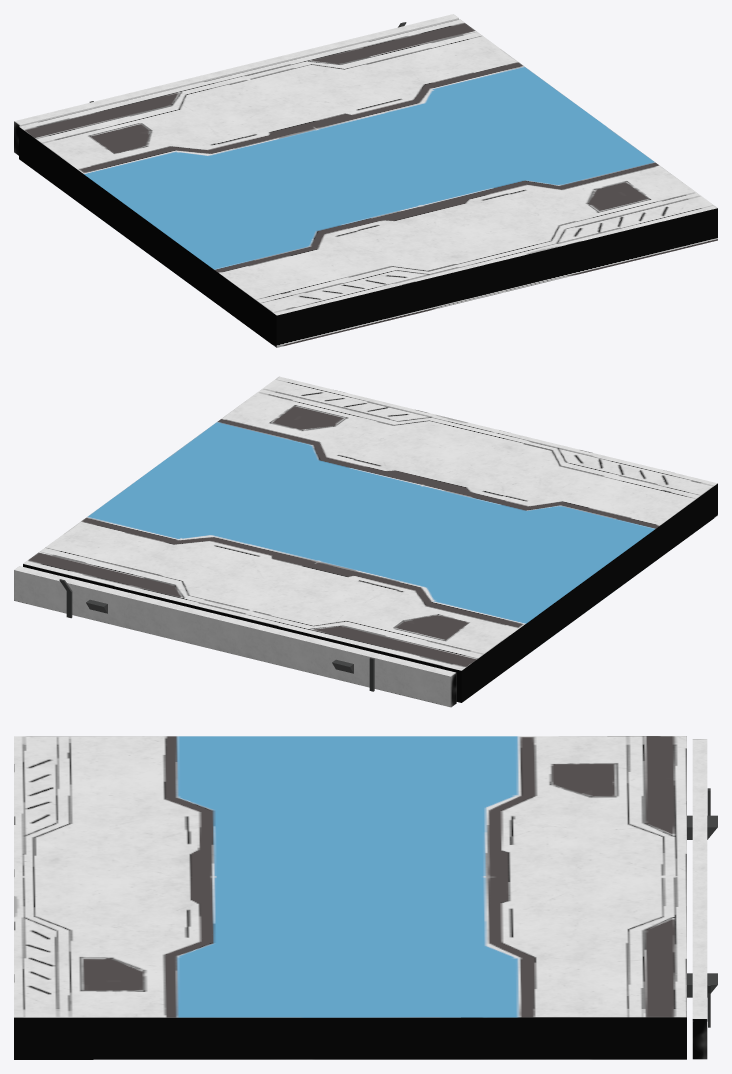
Rendered from 城市平台.fbx.
The picture shows the model from 3 angles, top to bottom: view 1: azimuth 30°, elevation 25°; view 2: azimuth 150°, elevation 25°; view 3: azimuth 270°, elevation 25°; orthographic projection. The views are drawn at different scales.
Visible parts, largest first — view 1: Cube_001.002; view 2: Cube_001.002; view 3: Cube_001.002.
Part boxes in pixels (<box>): Cube_001.002: <box>14,14,717,347</box>; Cube_001.002: <box>14,376,717,707</box>; Cube_001.002: <box>14,736,717,1059</box>.
Size of the model in its own units: 1713 by 132 by 1809.
